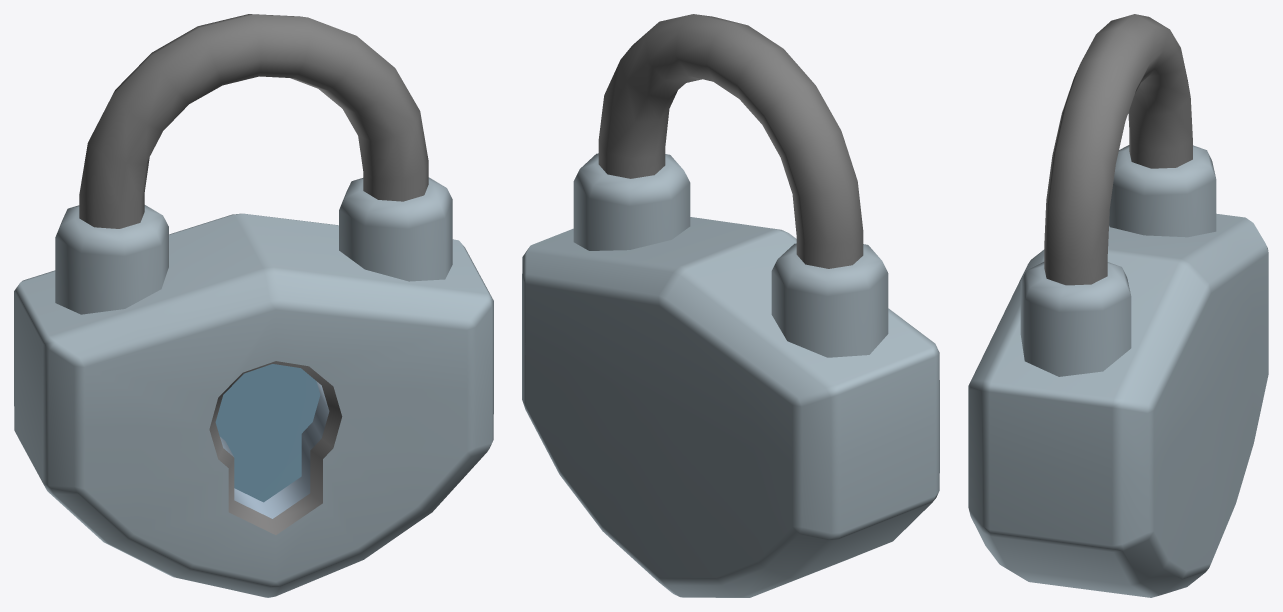
3 views of the same model, side by side, from view 1: azimuth 30°, elevation 25°; view 2: azimuth 150°, elevation 25°; view 3: azimuth 270°, elevation 25° (orthographic).
Parts seen in each view (by area): view 1: model_1.013; view 2: model_1.013; view 3: model_1.013.
Boxes of the visible parts, bbox=[...] form: model_1.013: bbox=[14, 14, 493, 597]; model_1.013: bbox=[522, 14, 939, 597]; model_1.013: bbox=[968, 14, 1268, 597].
Size of the model in its own units: 3.5 by 4.47 by 2.21.
